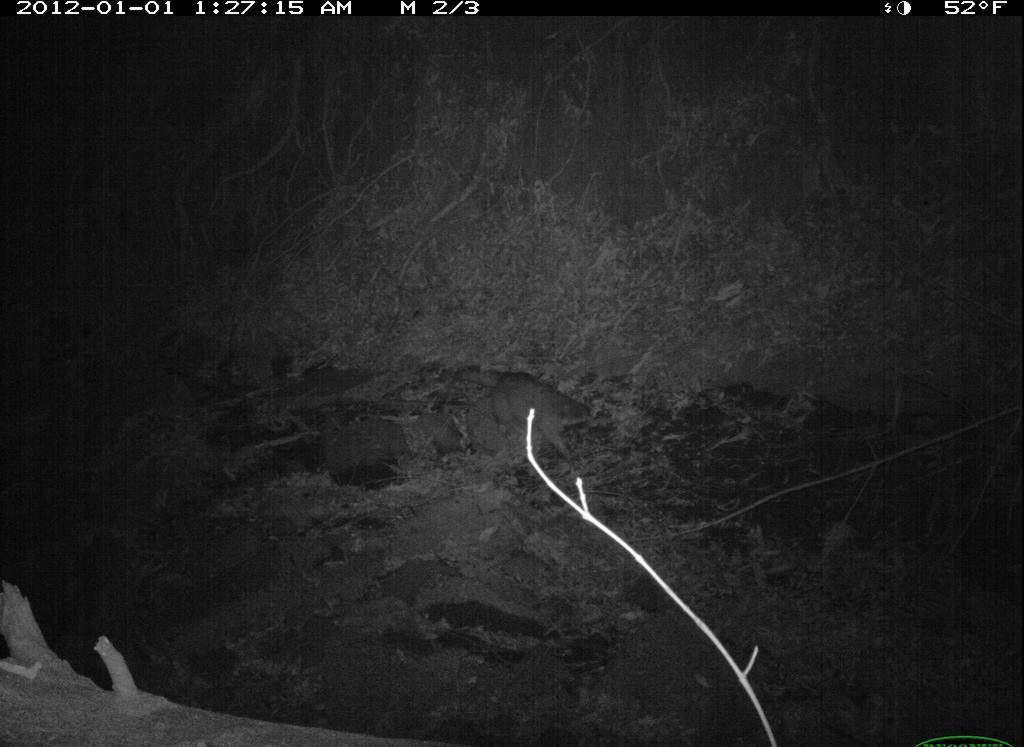raccoon: (456, 354, 600, 457)
